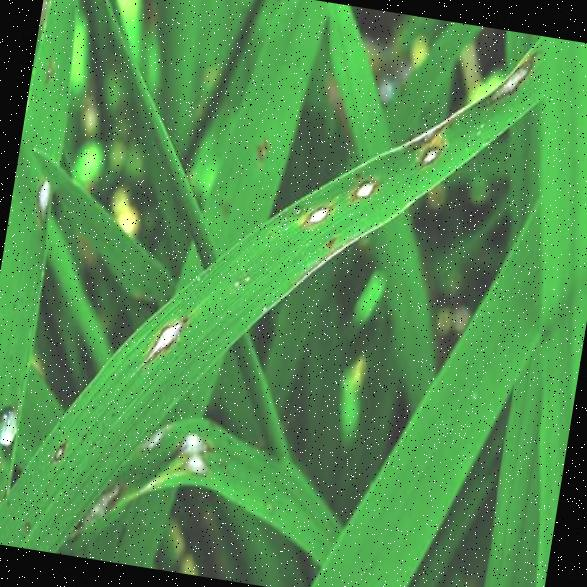Leaf_smut: (480, 44, 542, 104), (137, 300, 194, 358), (25, 166, 63, 234), (403, 126, 449, 167), (302, 190, 336, 232), (350, 160, 382, 202)
